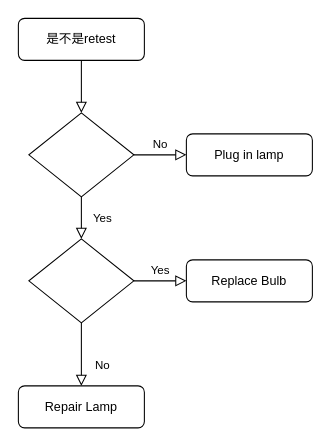
Image size: 331x446. Some labels were removed from this diagram. Here are the shapes that lost their labels. From the top down, the centre of each, then its label:
At (x=81, y=154): "Lamp plugged in?".
At (x=81, y=280): "Bulb burned out?".
